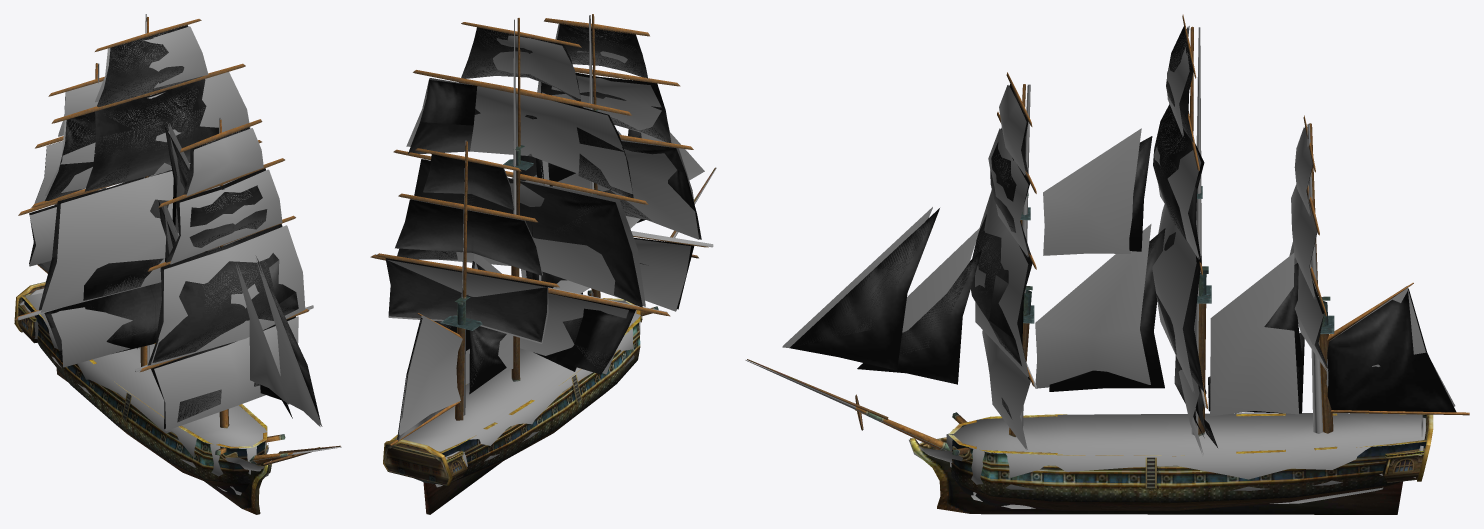
Rendered from F_Monster_031_m.fbx.
3 views of the same model, side by side, from view 1: azimuth 30°, elevation 25°; view 2: azimuth 150°, elevation 25°; view 3: azimuth 270°, elevation 25° (orthographic). The views are drawn at different scales.
Parts seen in each view (by area): view 1: F_Ship_FakeShadow, F_Ship_Sail, F_Ship; view 2: F_Ship_FakeShadow, F_Ship_Sail, F_Ship; view 3: F_Ship_FakeShadow, F_Ship_Sail, F_Ship.
Part boxes in pixels (x1,y1,x2,y2): F_Ship_FakeShadow: (18,14,341,495); F_Ship_Sail: (29,25,320,428); F_Ship: (14,17,340,514); F_Ship_FakeShadow: (375,15,716,487); F_Ship_Sail: (385,23,701,440); F_Ship: (370,14,715,514); F_Ship_FakeShadow: (745,26,1455,508); F_Ship_Sail: (789,26,1456,447); F_Ship: (747,14,1469,514).
Bounding box in the file's own units: 0.6 × 0.8625 × 1.16.
Materials: 3 (2 with a texture image).
